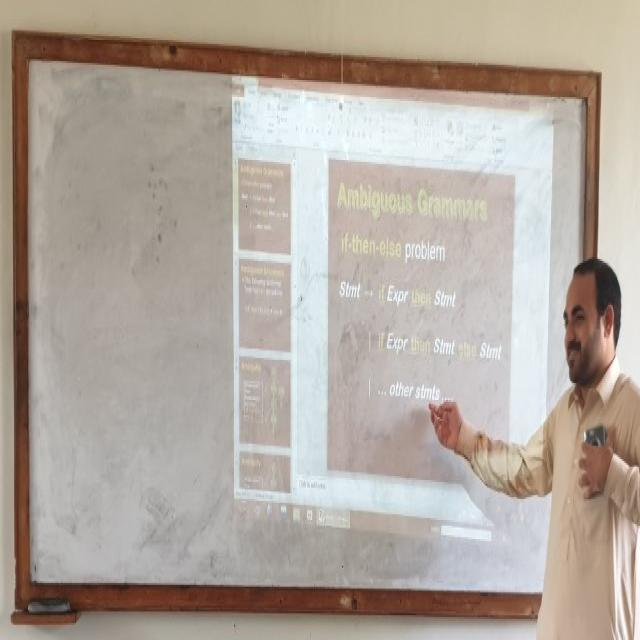Instructor: (527, 237, 640, 640)
Slide: (232, 55, 555, 559)
White-board: (22, 38, 599, 600)
